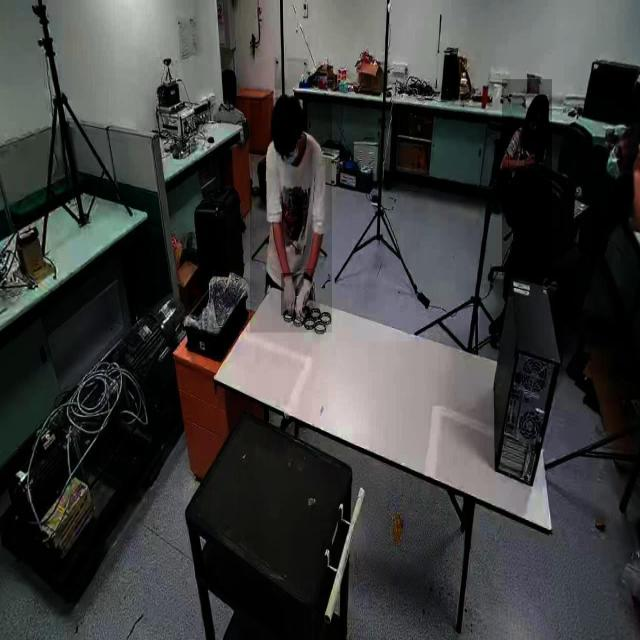face_nomask: (529, 117, 541, 135)
hand_glove: (297, 268, 313, 320), (281, 273, 297, 316)
hand_noglove: (524, 150, 536, 167)
head_nohelmet: (269, 90, 305, 130), (530, 90, 552, 113), (625, 124, 639, 156)
person: (250, 98, 332, 333), (502, 79, 552, 277)
